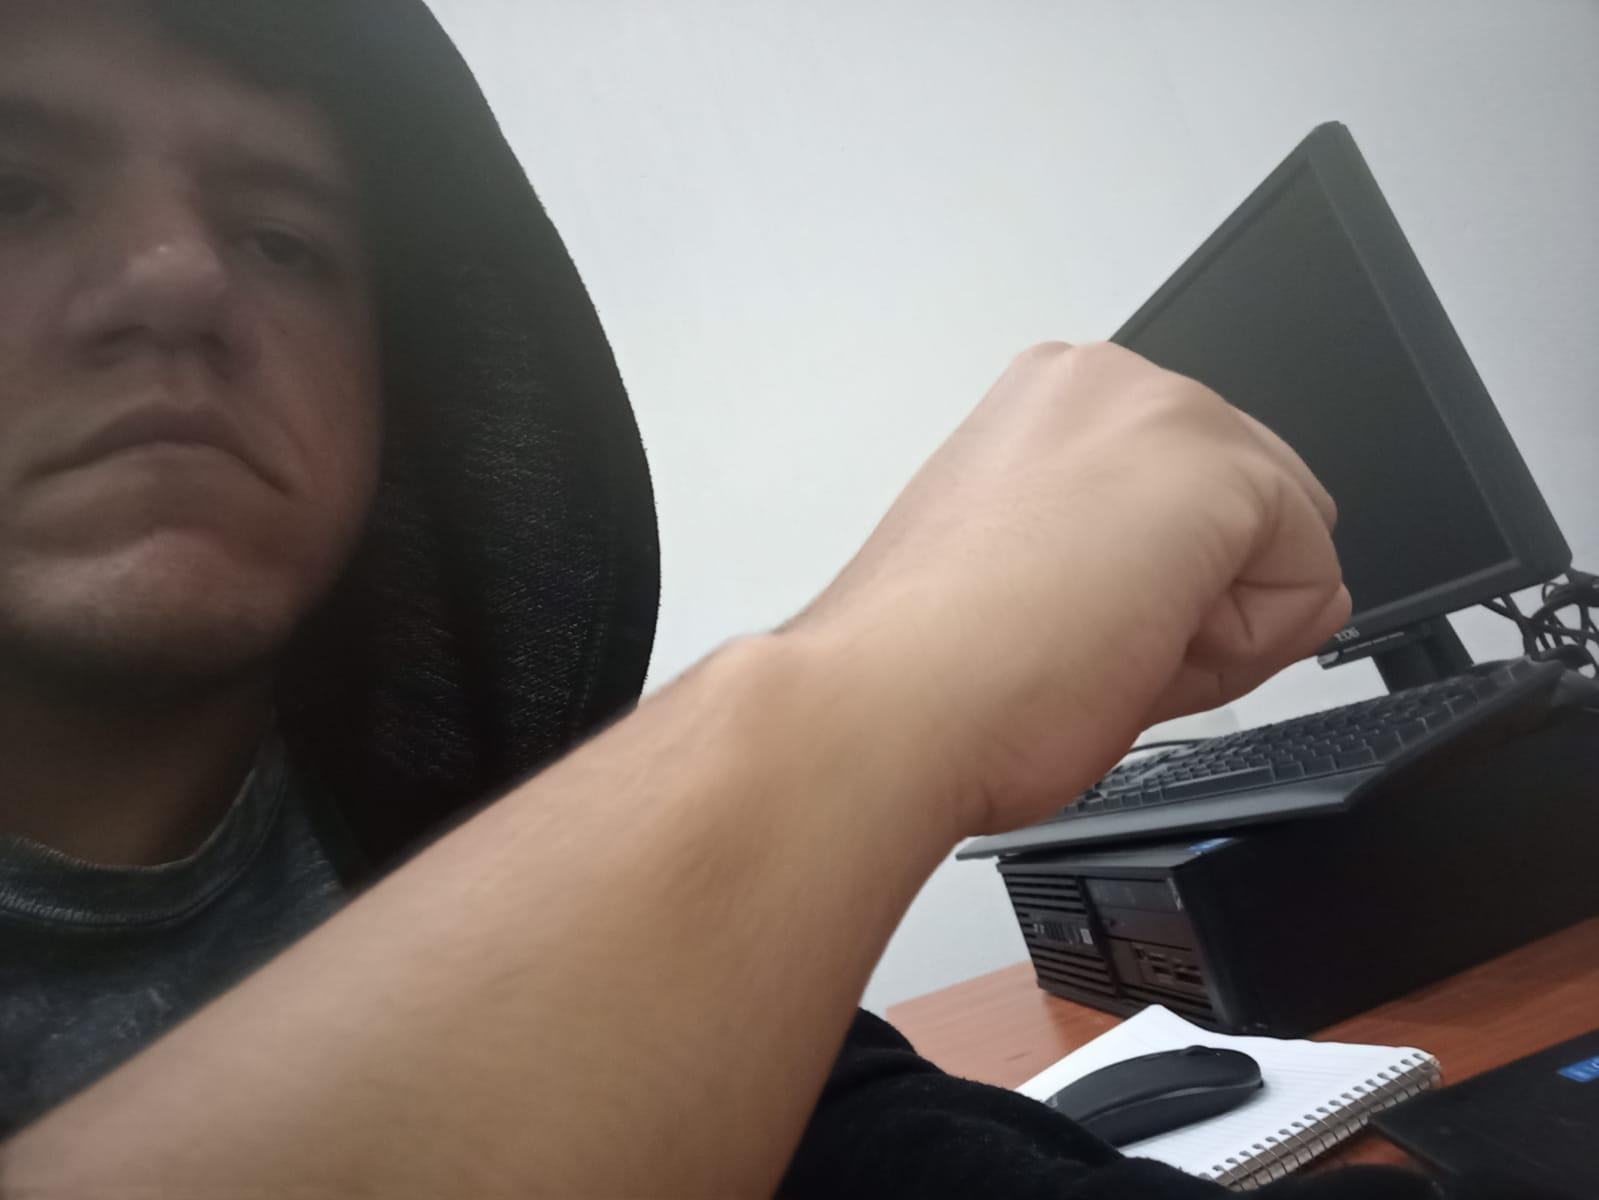Stone: (801, 289, 1394, 803)
